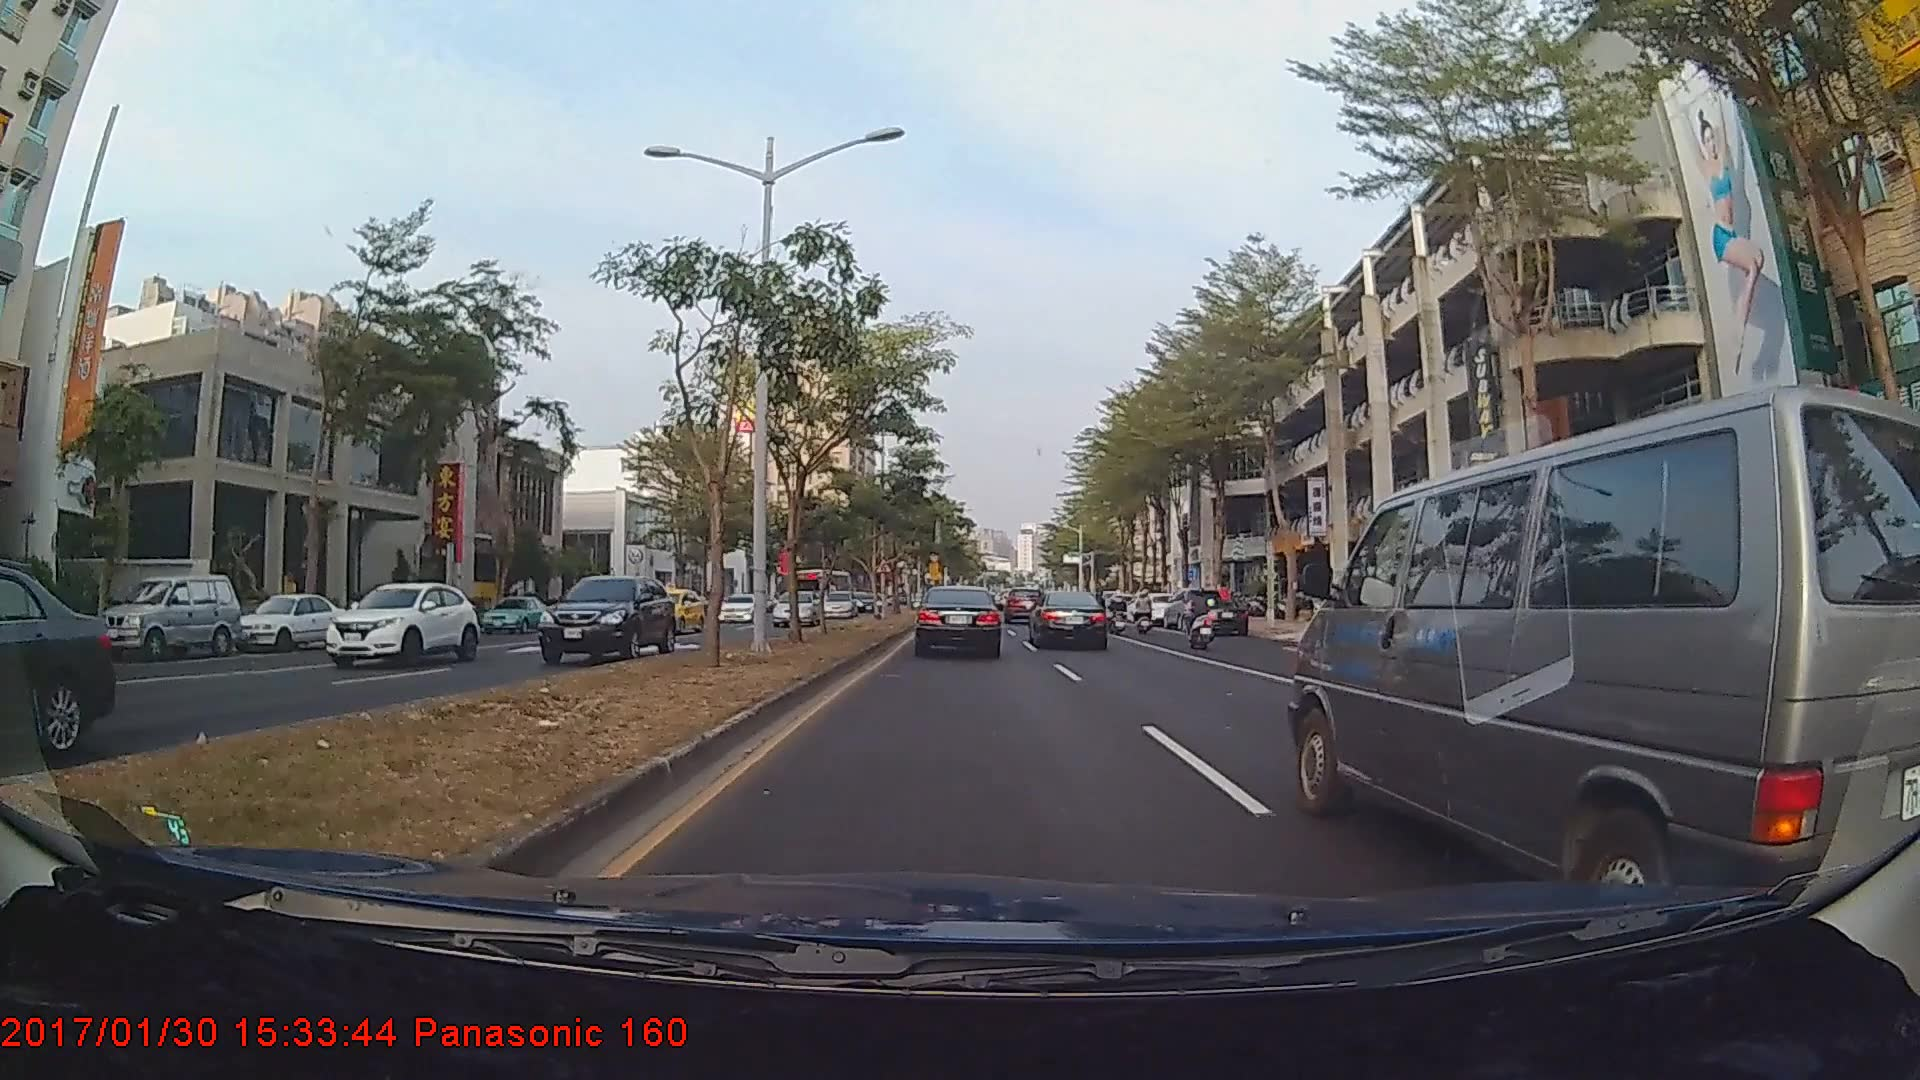rider: (1182, 584, 1218, 652), (1131, 588, 1159, 640)
vehicle: (1285, 398, 1892, 910), (0, 561, 118, 761), (319, 579, 482, 673), (533, 573, 675, 665), (103, 574, 240, 660), (915, 583, 1002, 657), (1029, 589, 1110, 649), (631, 588, 704, 636), (1177, 599, 1247, 640), (793, 567, 852, 612), (773, 589, 824, 629), (714, 592, 764, 623), (1005, 587, 1043, 622), (820, 589, 858, 619)
